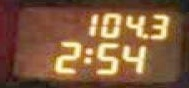-: (139, 30, 147, 38)
0: (97, 10, 122, 38)
1: (82, 12, 97, 36)
2: (51, 38, 81, 74)
3: (147, 12, 169, 39)
4: (119, 42, 147, 73), (122, 12, 142, 37)
5: (94, 40, 119, 74)
X: (81, 45, 92, 63)
